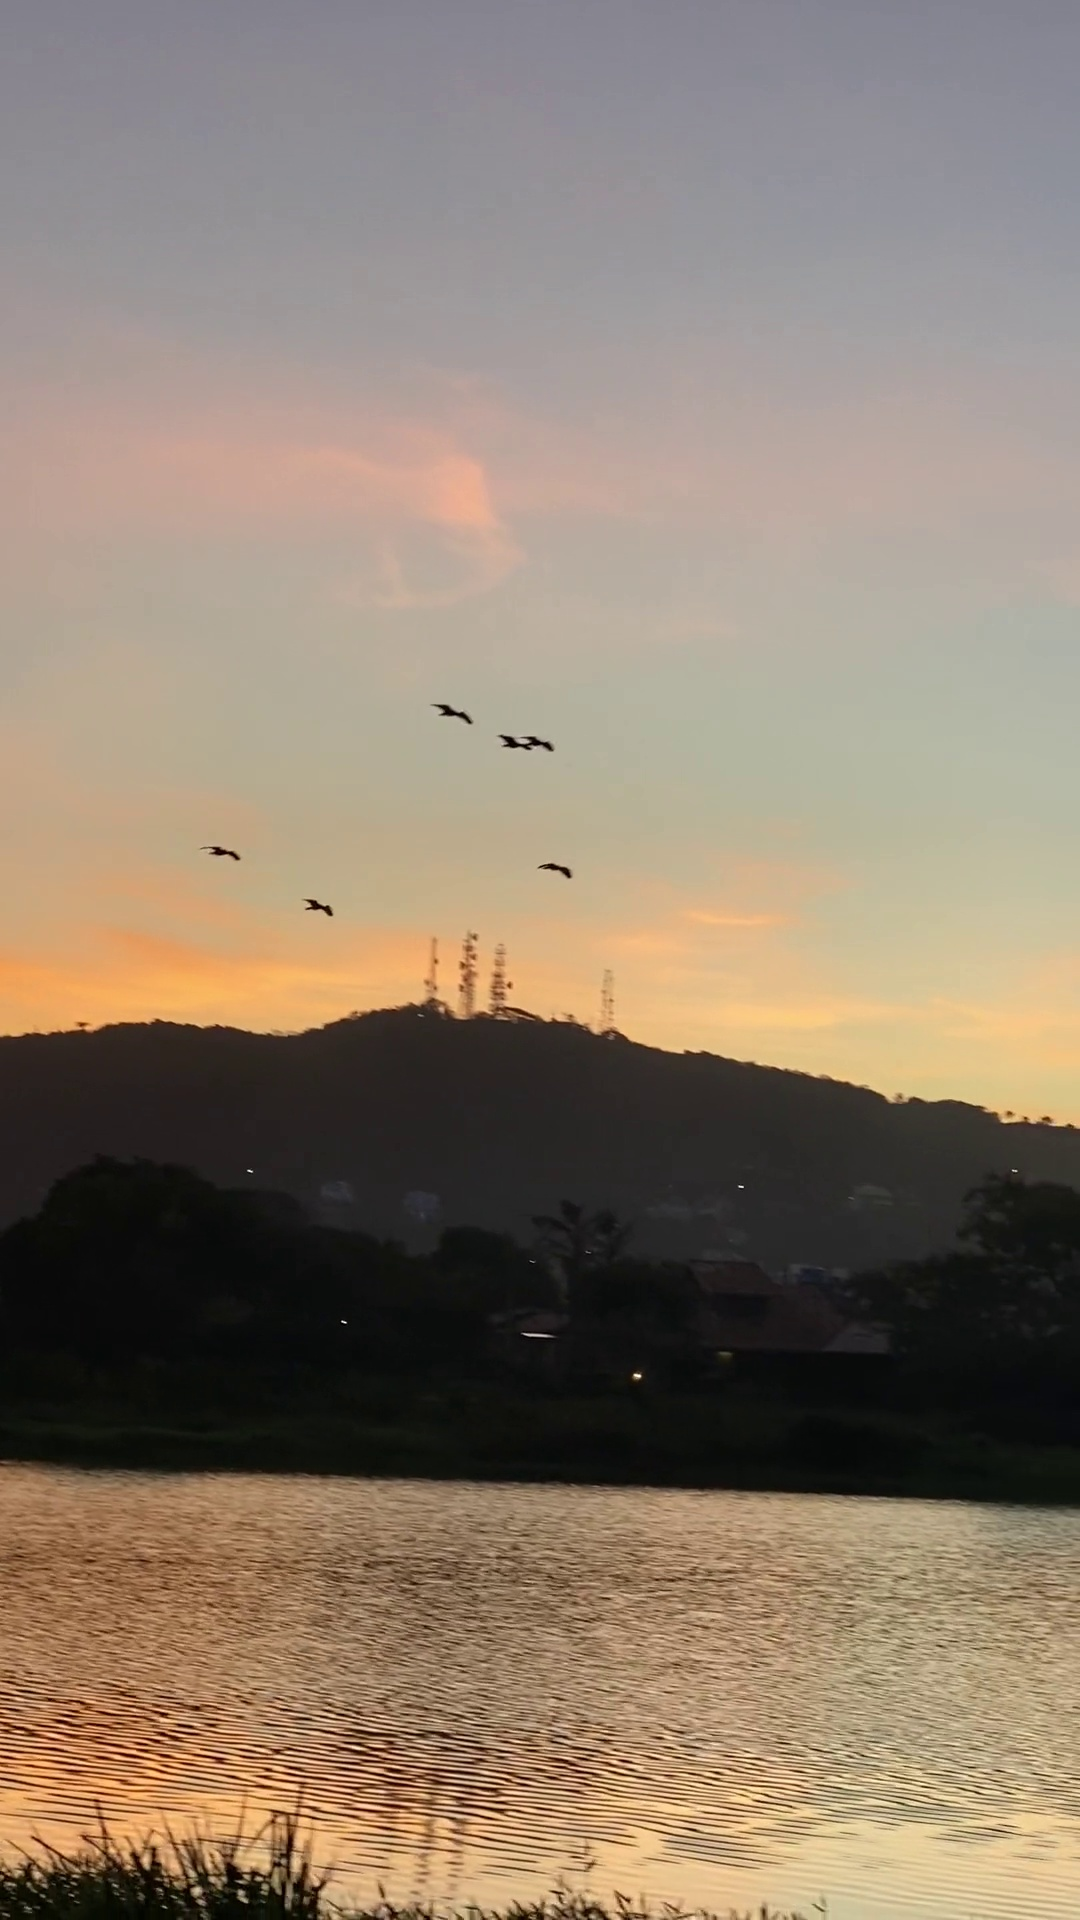bird: (433, 702, 469, 723), (496, 733, 529, 752), (200, 844, 241, 858), (538, 862, 575, 877), (305, 897, 331, 916), (522, 735, 553, 749)
